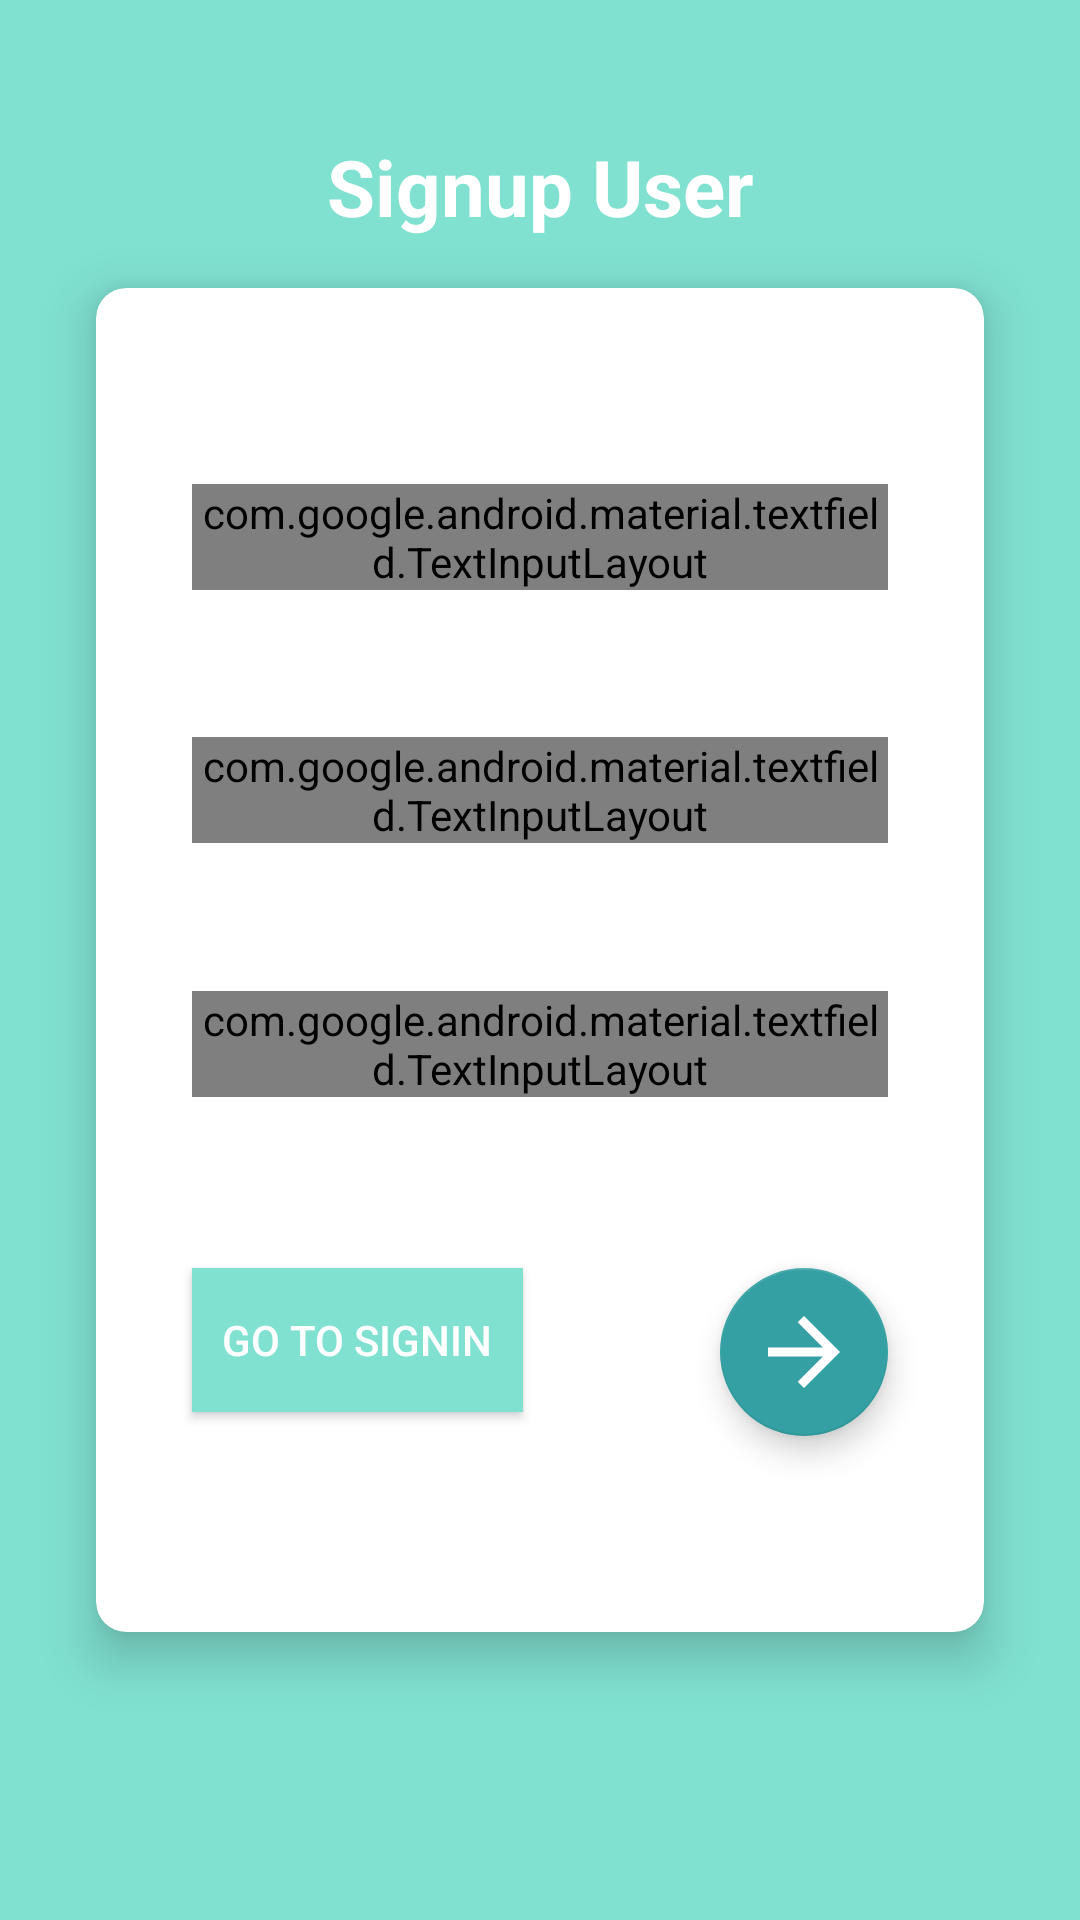

Screen size 1080w x 1920h. Icon name, then its box in pixels as (x1, y1, x2, y2):
right arrow forward: (720, 1268, 888, 1436)
